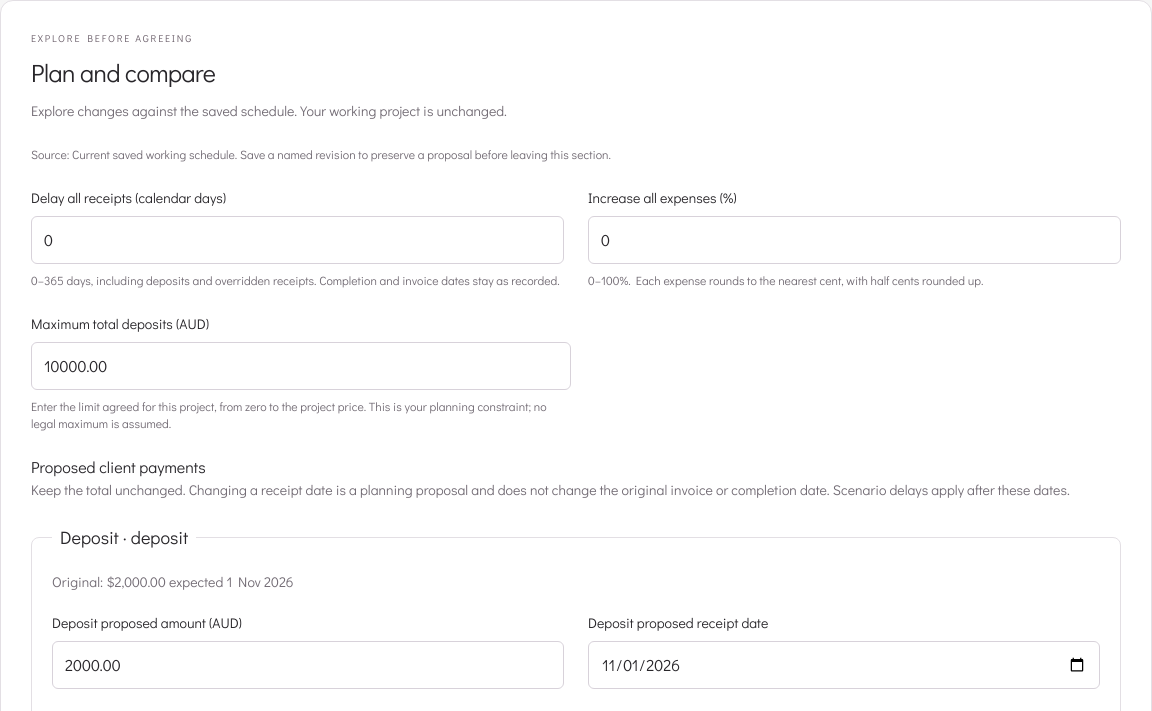
Test: previews a constrained deposit suggestion and explains the remaining gap
The image size is (1152, 711).
Replace the text in the field labelled "Maximum total deposits (AUD)" with "2500" at (301, 366), box [31,342,571,390]
(page scrolled)
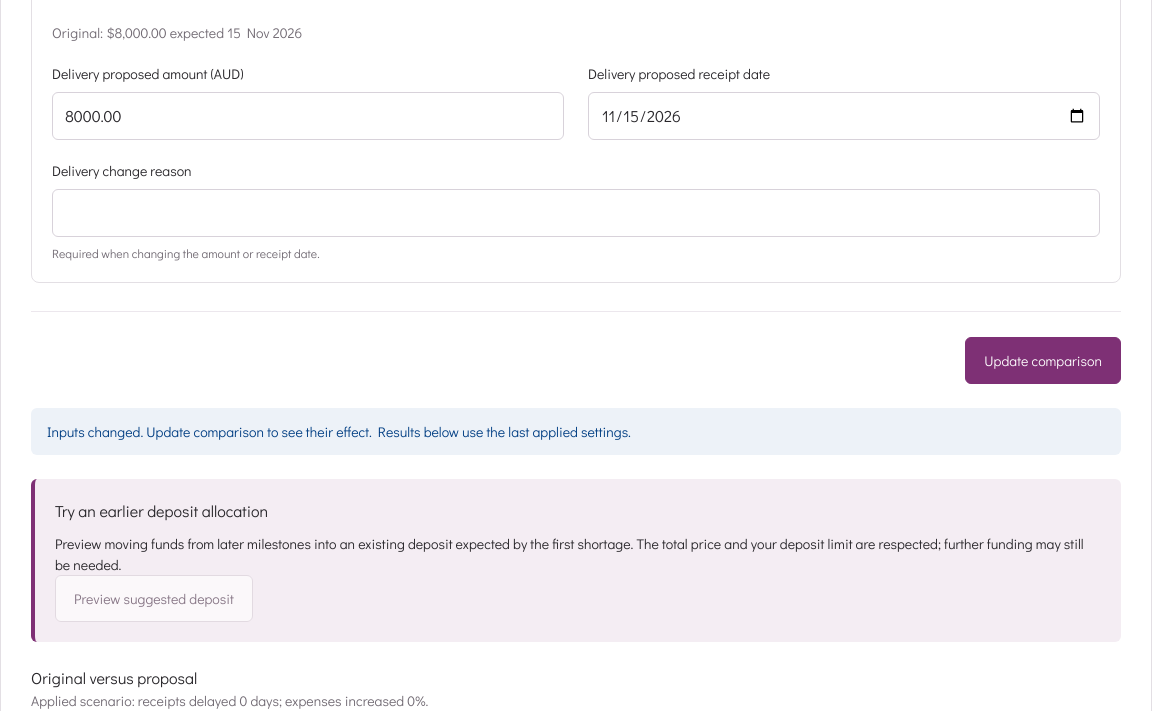
Expected: the button "Preview suggested deposit" is disabled, [55,575,253,622]
Click the button "Update comparison" at (1043, 360), box [965,337,1121,384]
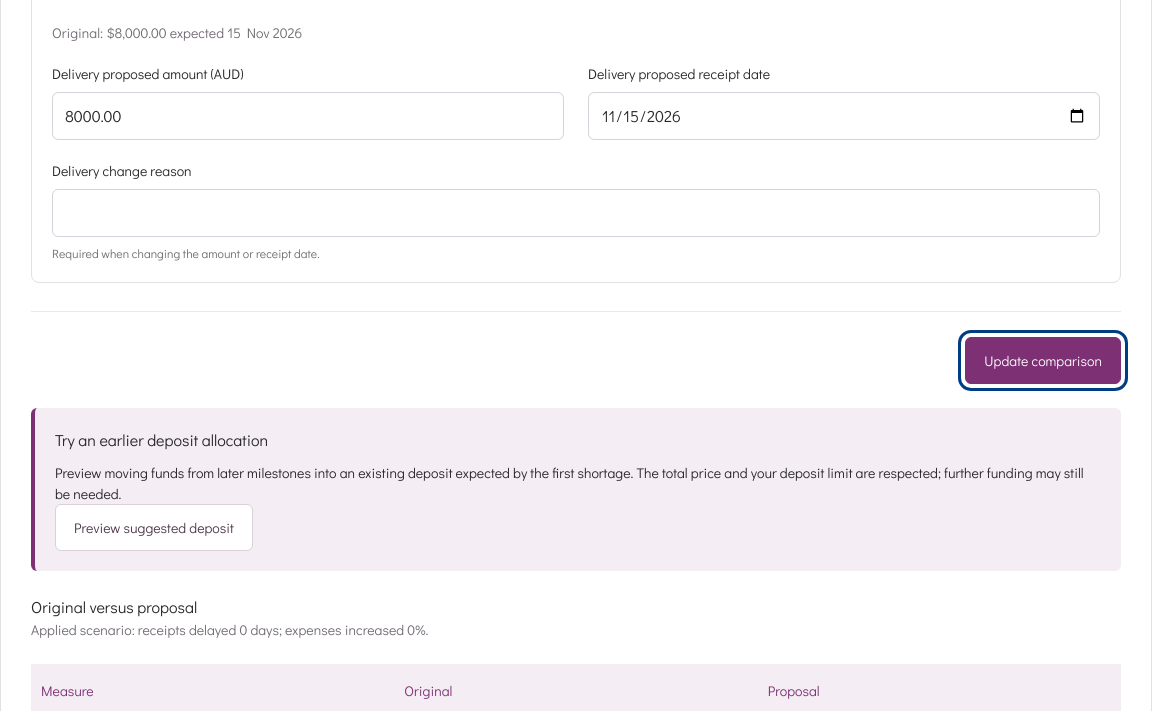
Click the button "Preview suggested deposit" at (154, 528), box [55,504,253,551]
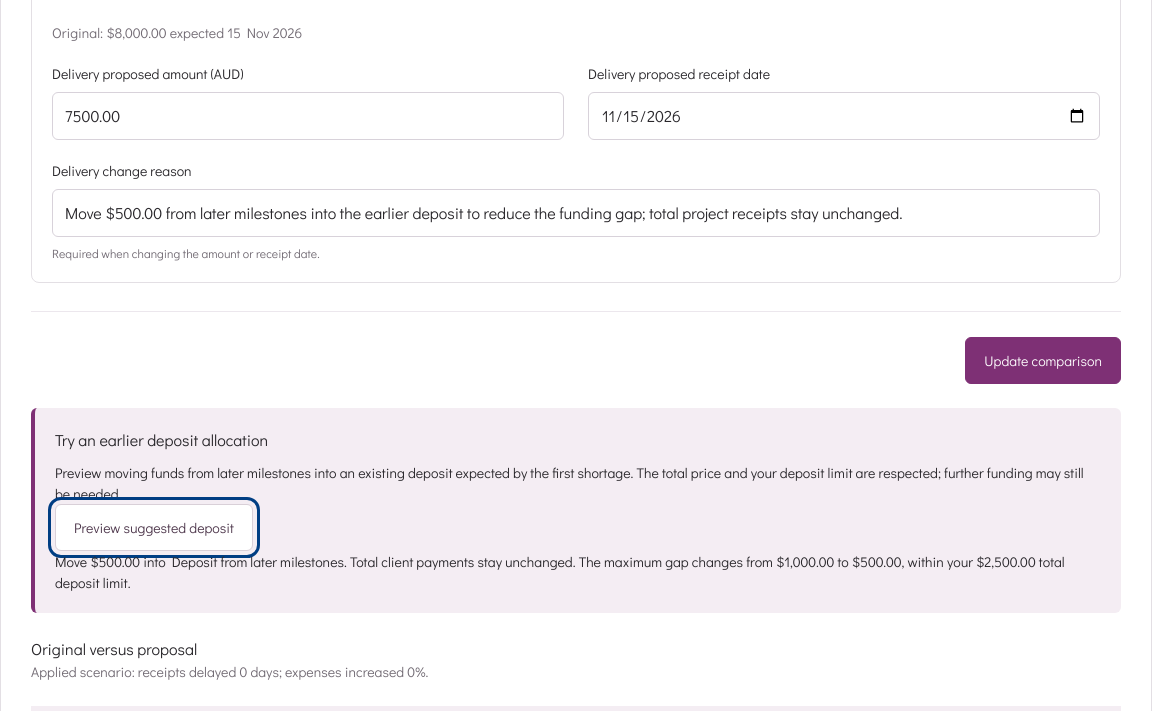
Expected: the field labelled "Delivery proposed amount (AUD)" holds "7500.00", [52,92,564,140]
Expected: the message shows "within your $2,500.00 total deposit limit", [55,552,1065,592]
